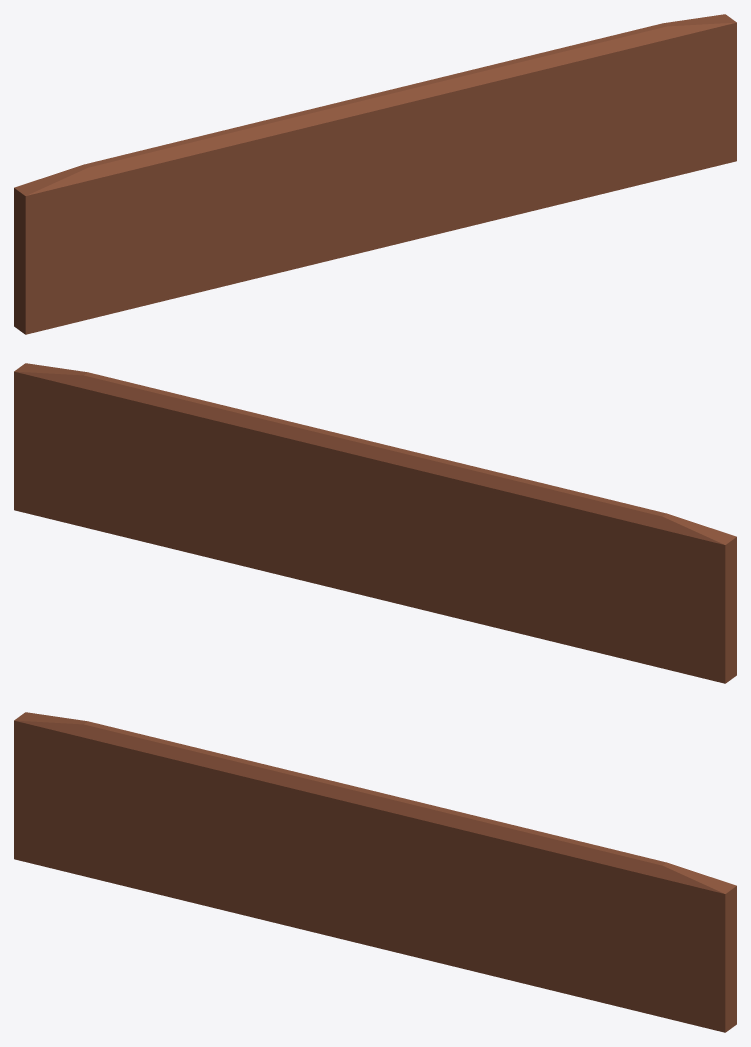
Rendered from Fence2.lod4.glb.
3 renders of one model, top to bottom at view 1: azimuth 30°, elevation 25°; view 2: azimuth 150°, elevation 25°; view 3: azimuth 330°, elevation 25°, orthographic.
Parts seen in each view (by area): view 1: Fence2; view 2: Fence2; view 3: Fence2.
Part boxes in pixels (x1,y1,x2,y2): Fence2: (14,14,736,334); Fence2: (14,363,736,683); Fence2: (14,712,736,1032).
Size of the model in its own units: 5.89 by 1.17 by 0.1655.
